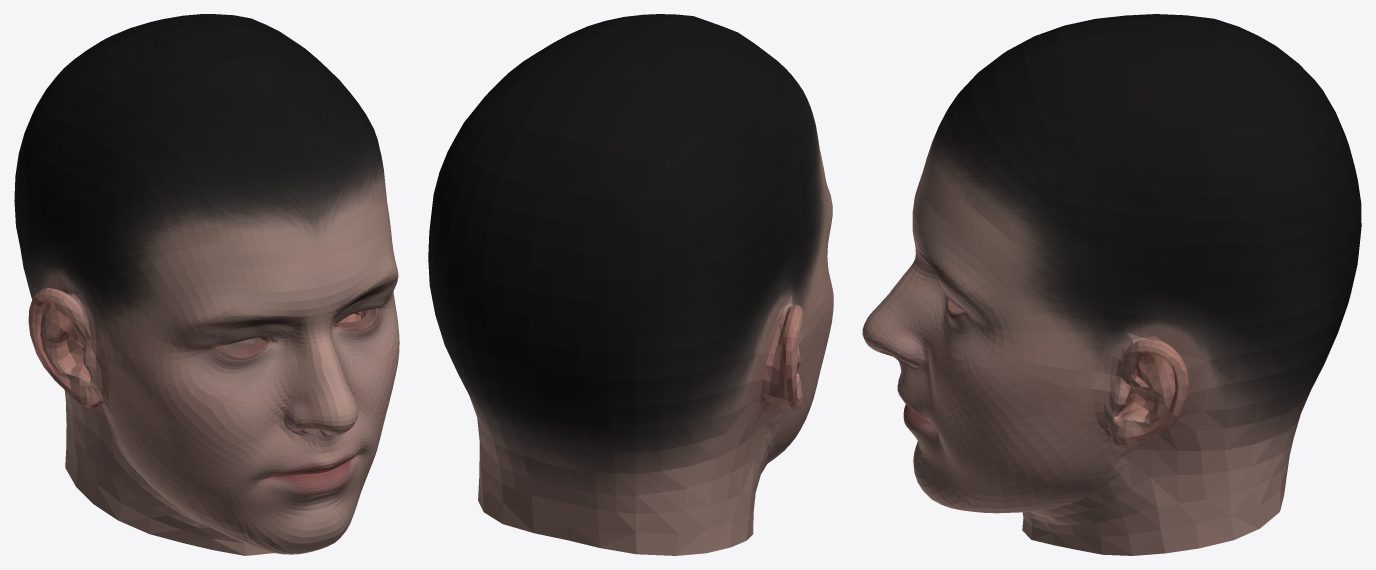
The model's file is nsh.obj.
The picture shows the model from 3 angles, left to right: view 1: azimuth 30°, elevation 25°; view 2: azimuth 150°, elevation 25°; view 3: azimuth 270°, elevation 25°; orthographic projection. The views are drawn at different scales.
Bounding box in the file's own units: 1.78 × 2.43 × 2.22.
1 material, 1 textured.
